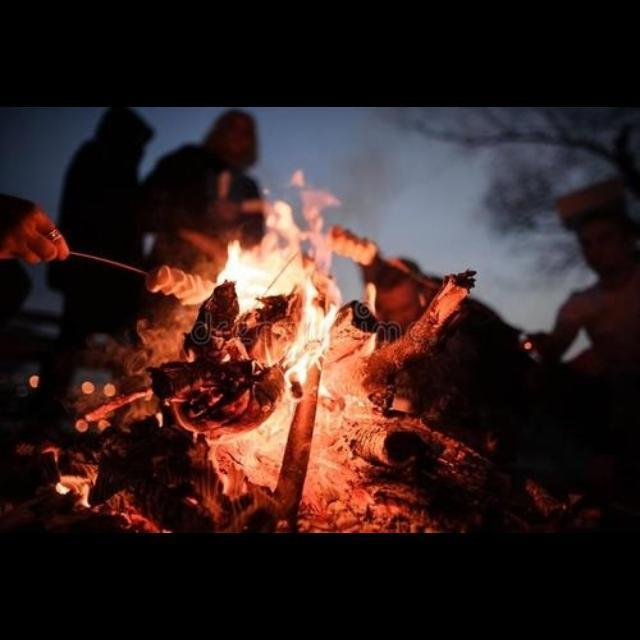Fire: (110, 167, 400, 533), (54, 469, 98, 506)
